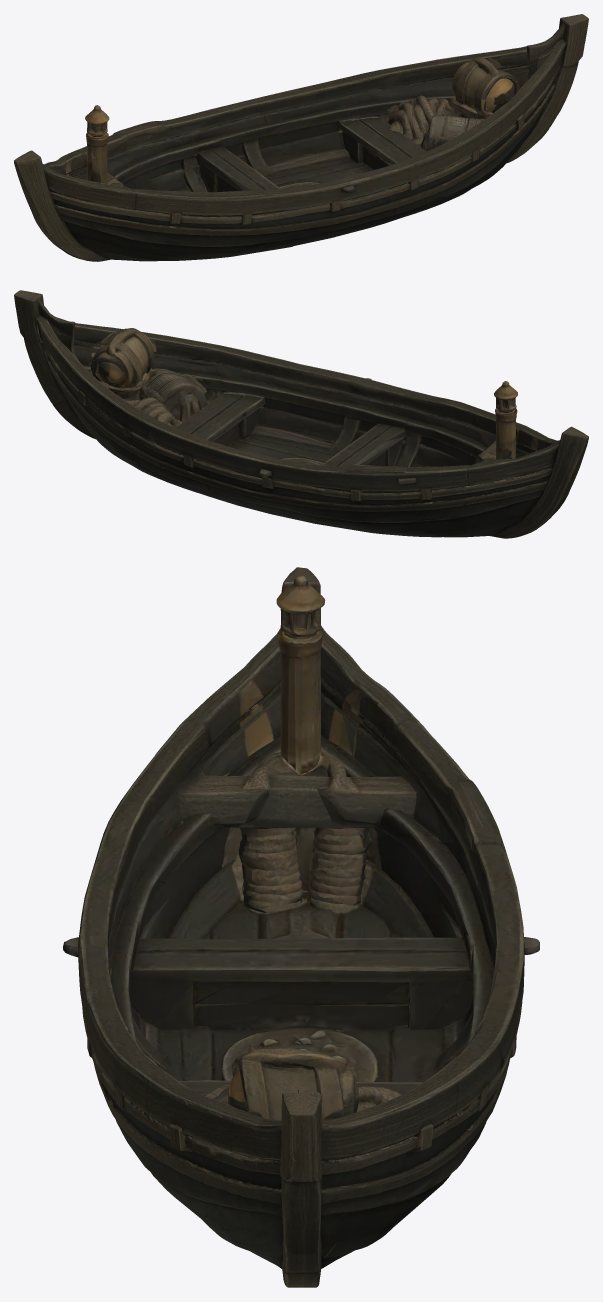
Rendered from mud_skiff.glb.
3 views of the same model, one above another, from view 1: azimuth 30°, elevation 25°; view 2: azimuth 150°, elevation 25°; view 3: azimuth 270°, elevation 25° (orthographic). The views are drawn at different scales.
Visible parts, largest first — view 1: output_unwrapped; view 2: output_unwrapped; view 3: output_unwrapped.
Part boxes in pixels (box(x1,y1,x2,y2)): output_unwrapped: box(14, 14, 588, 261); output_unwrapped: box(14, 290, 588, 538); output_unwrapped: box(63, 567, 539, 1287).
Size of the model in its own units: 1.9 by 0.4901 by 0.6877.
1 material, 1 textured.
